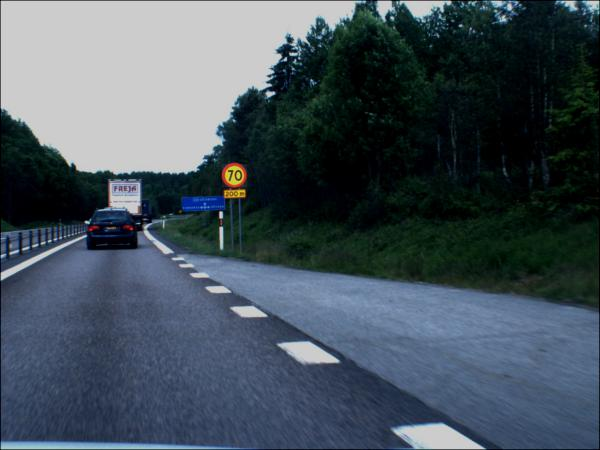70_SIGN: (223, 165, 249, 189)
